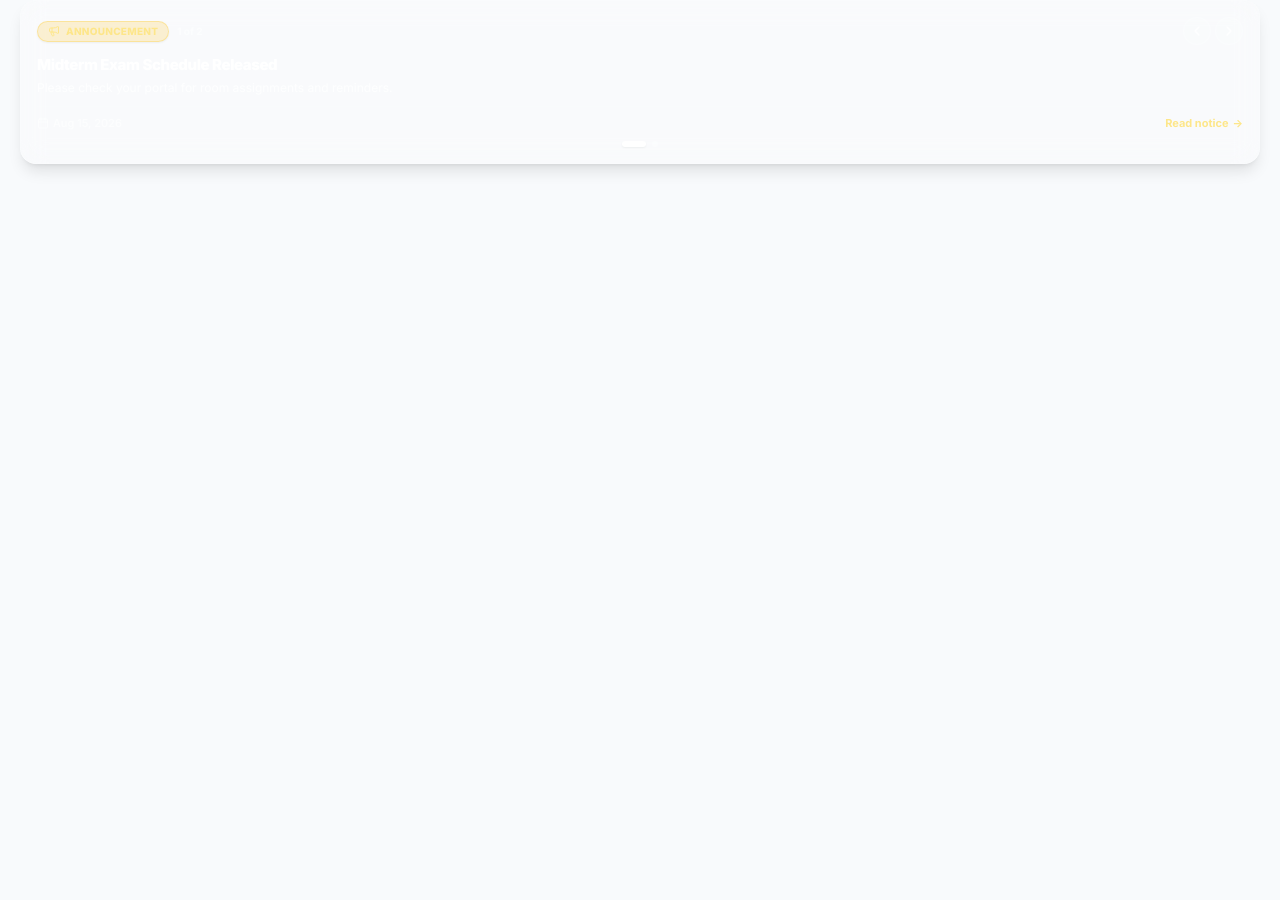
PublicAnnouncementsSlideshow › opens detail modal when clicking announcement card and closes on close button
Click the button "Midterm Exam Schedule Released" at x=157, y=64, box [37,55,1243,131]
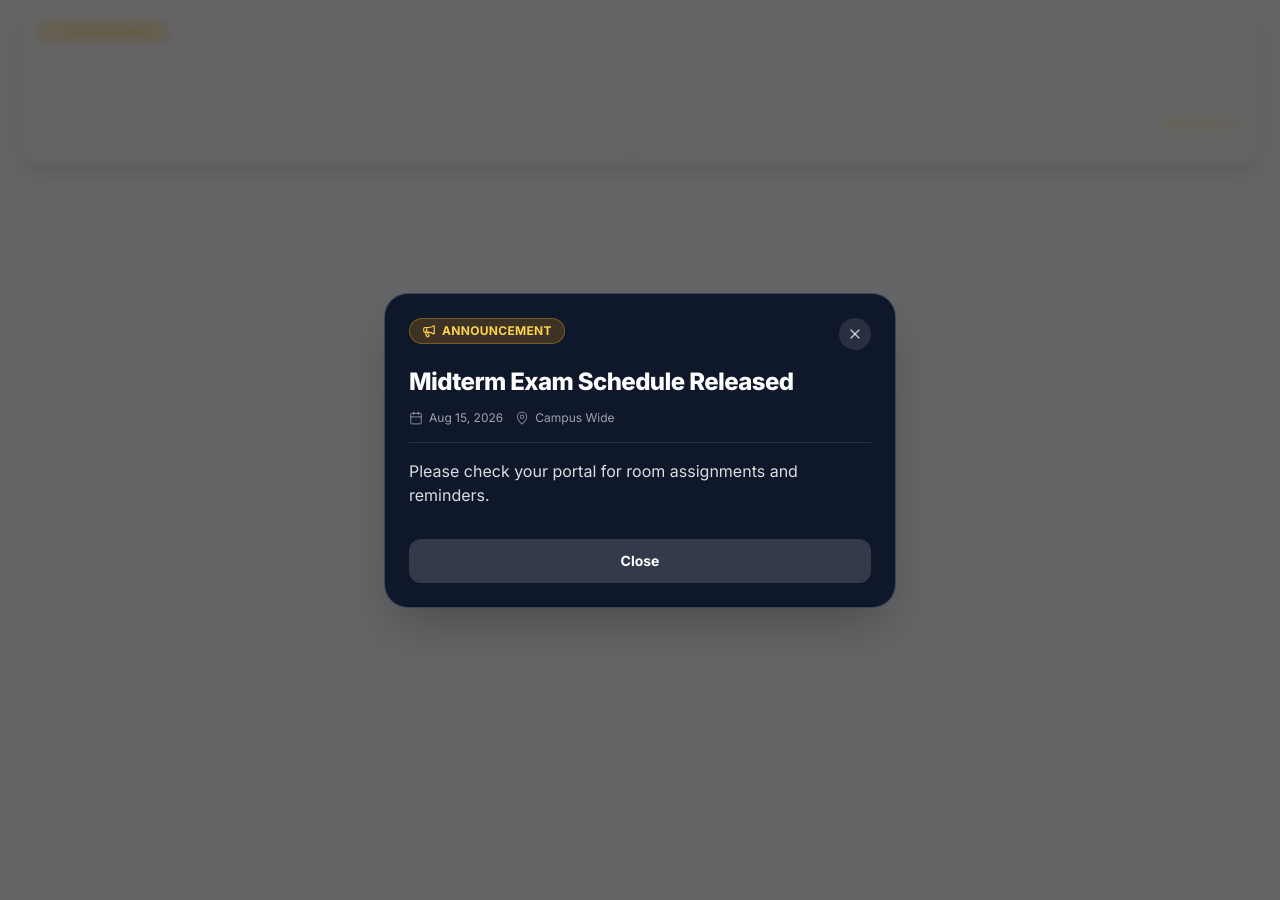
Now the text "Campus Wide" is shown, box [515,410,615,426]
Now the button "Close" is shown
Click the button "Close" at x=640, y=560, box [409,538,871,582]
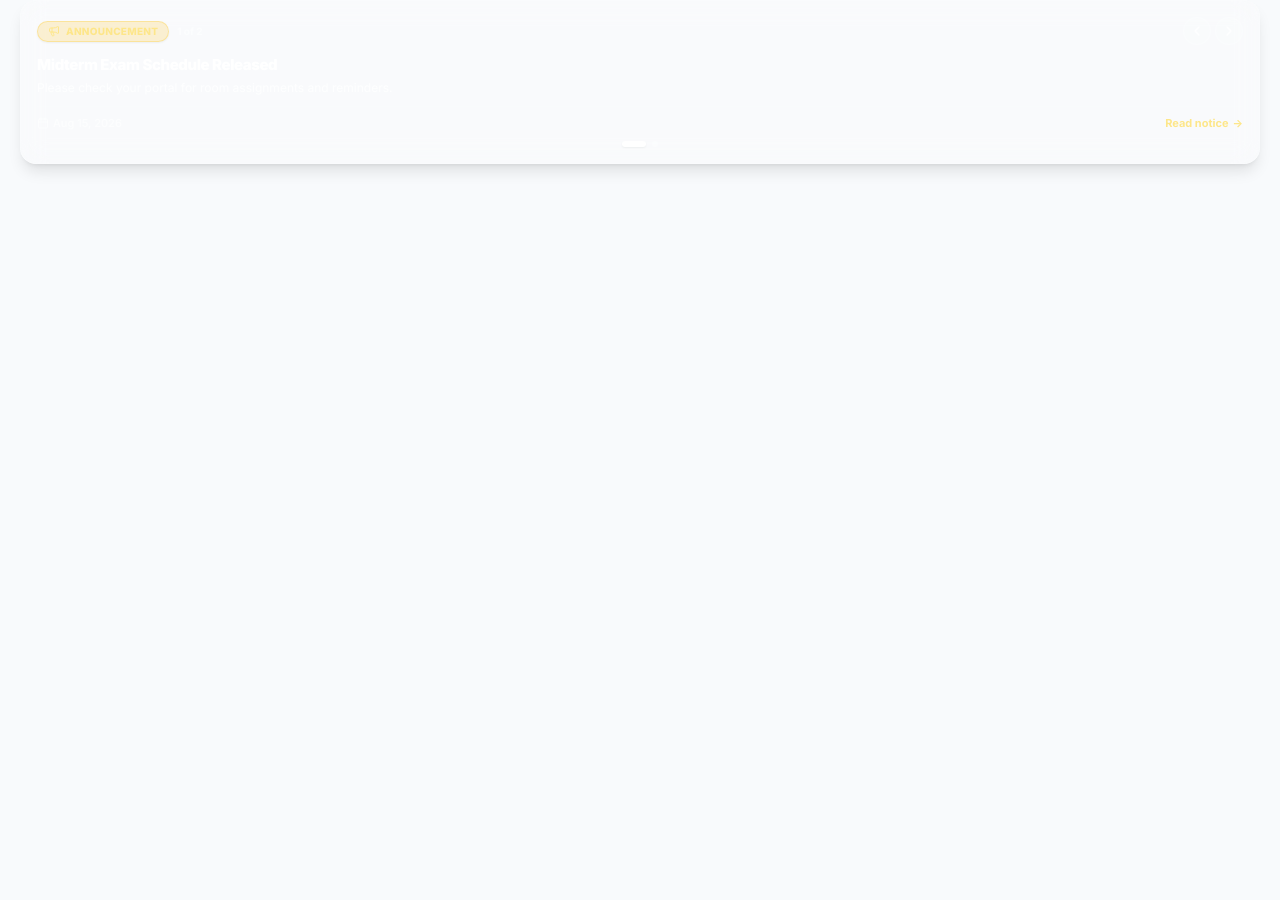
Now the text "Campus Wide" is gone
